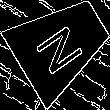N_NE: (32, 14, 91, 75)
